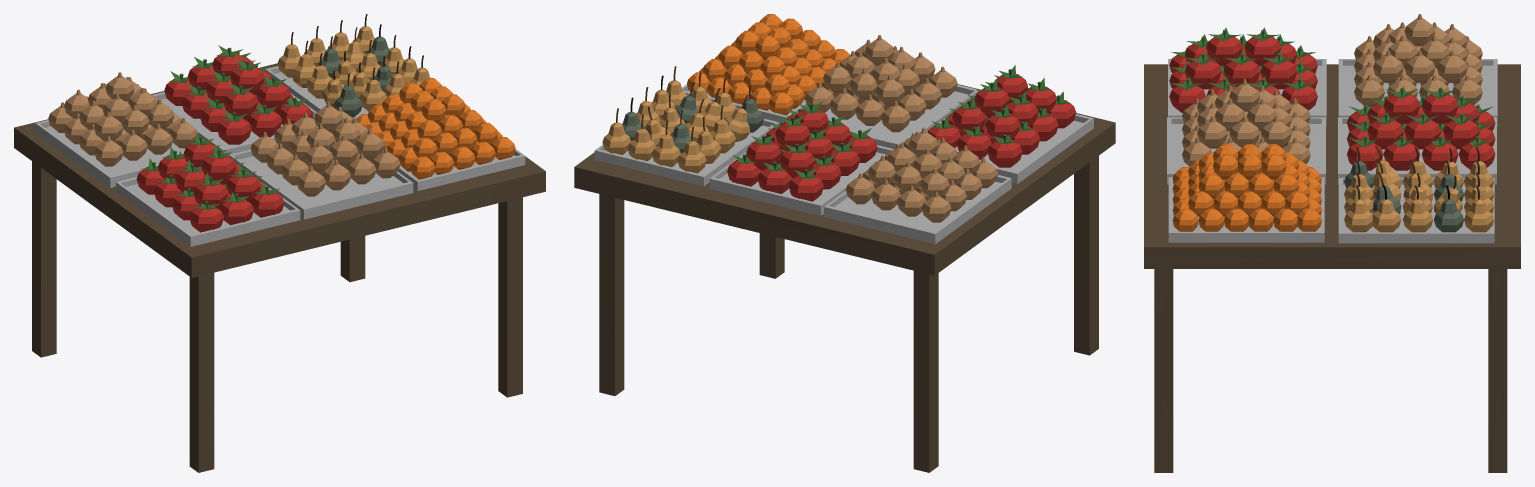
File: SM_fruitTable_02.glb
The picture shows the model from 3 angles, left to right: view 1: azimuth 30°, elevation 25°; view 2: azimuth 150°, elevation 25°; view 3: azimuth 270°, elevation 25°; orthographic projection. The views are drawn at different scales.
Parts seen in each view (by area): view 1: SM_fruitTable_02; view 2: SM_fruitTable_02; view 3: SM_fruitTable_02.
Part boxes in pixels (x1,y1,x2,y2): SM_fruitTable_02: (14, 14, 545, 472); SM_fruitTable_02: (574, 14, 1115, 472); SM_fruitTable_02: (1144, 14, 1520, 472).
Bounding box in the file's own units: 1.15 × 0.9196 × 0.9968.
Materials: 1 (1 with a texture image).
